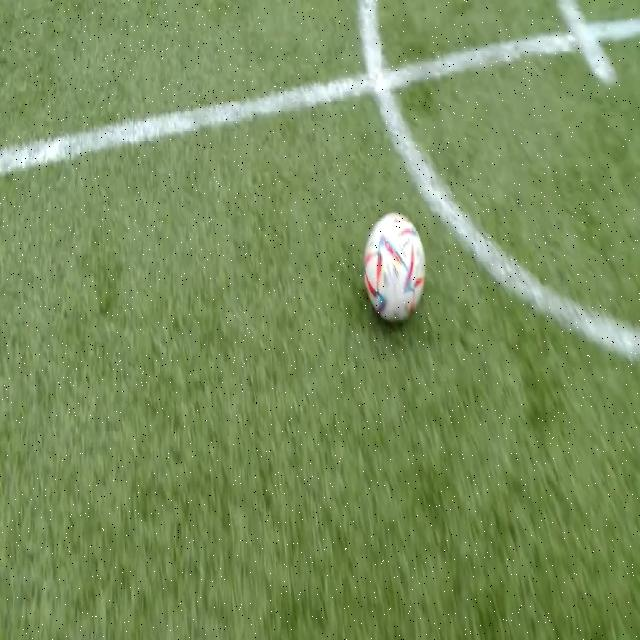ball: (363, 213, 425, 322)
